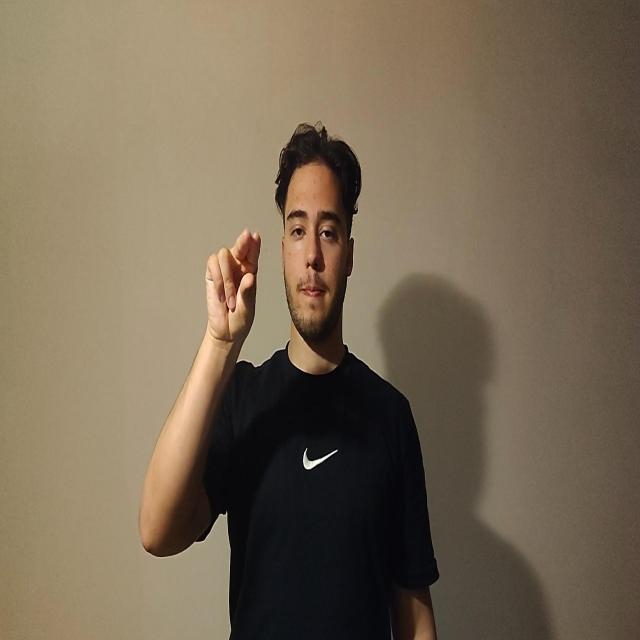no: (205, 228, 261, 344)
